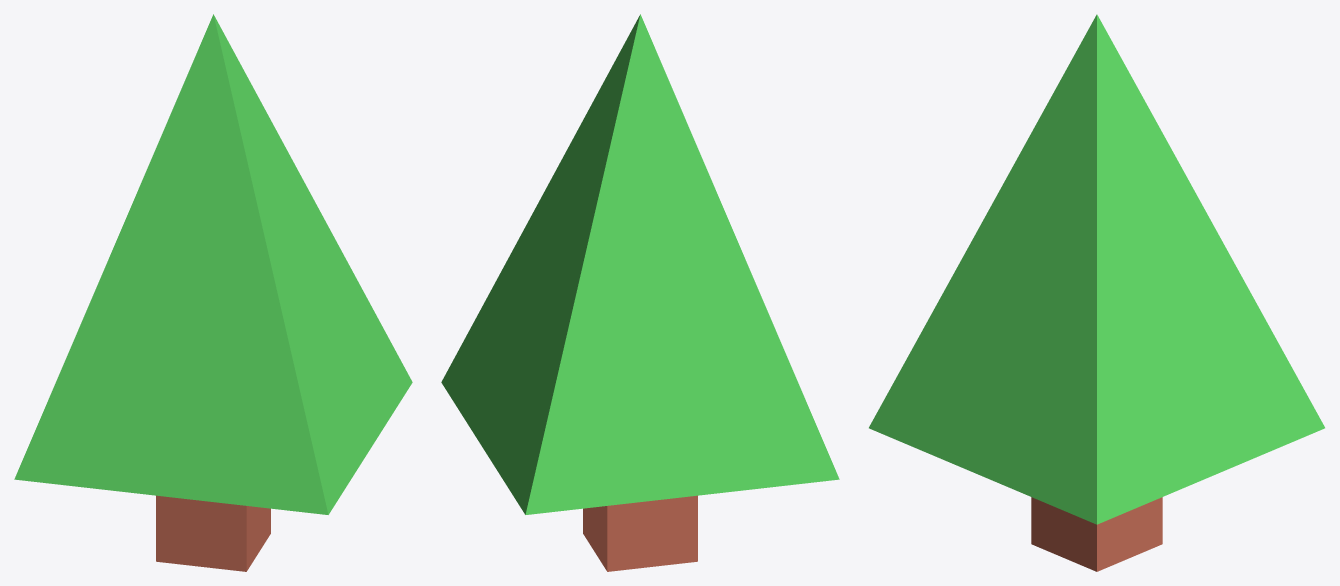
Rendered from ChrisTree.fbx.
3 views of the same model, side by side, from view 1: azimuth 30°, elevation 25°; view 2: azimuth 150°, elevation 25°; view 3: azimuth 270°, elevation 25° (orthographic).
Parts seen in each view (by area): view 1: ChrisTree; view 2: ChrisTree; view 3: ChrisTree.
Boxes of the visible parts, <box> form: ChrisTree: <box>14,14,412,571</box>; ChrisTree: <box>441,14,839,571</box>; ChrisTree: <box>869,14,1324,571</box>.
Bounding box in the file's own units: 200 × 256 × 200.
